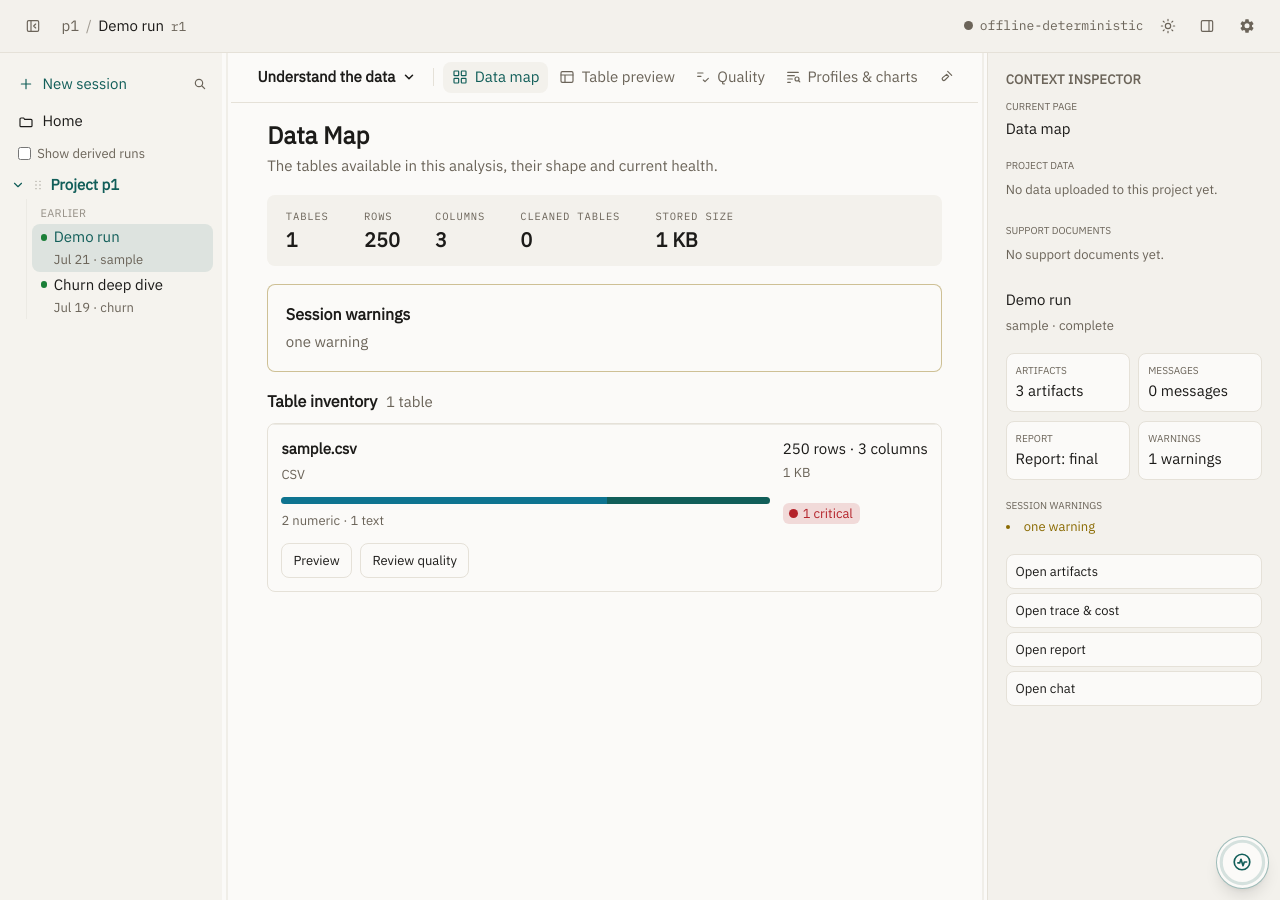
Test: App Shell › toggles the Activity panel and persists the choice
The width and height of the screenshot is (1280, 900).
expect the heading "Data Map" is shown: met, box [267,119,369,151]
Click the button named "Open activity" at (1242, 862), box [1216,836,1269,889]
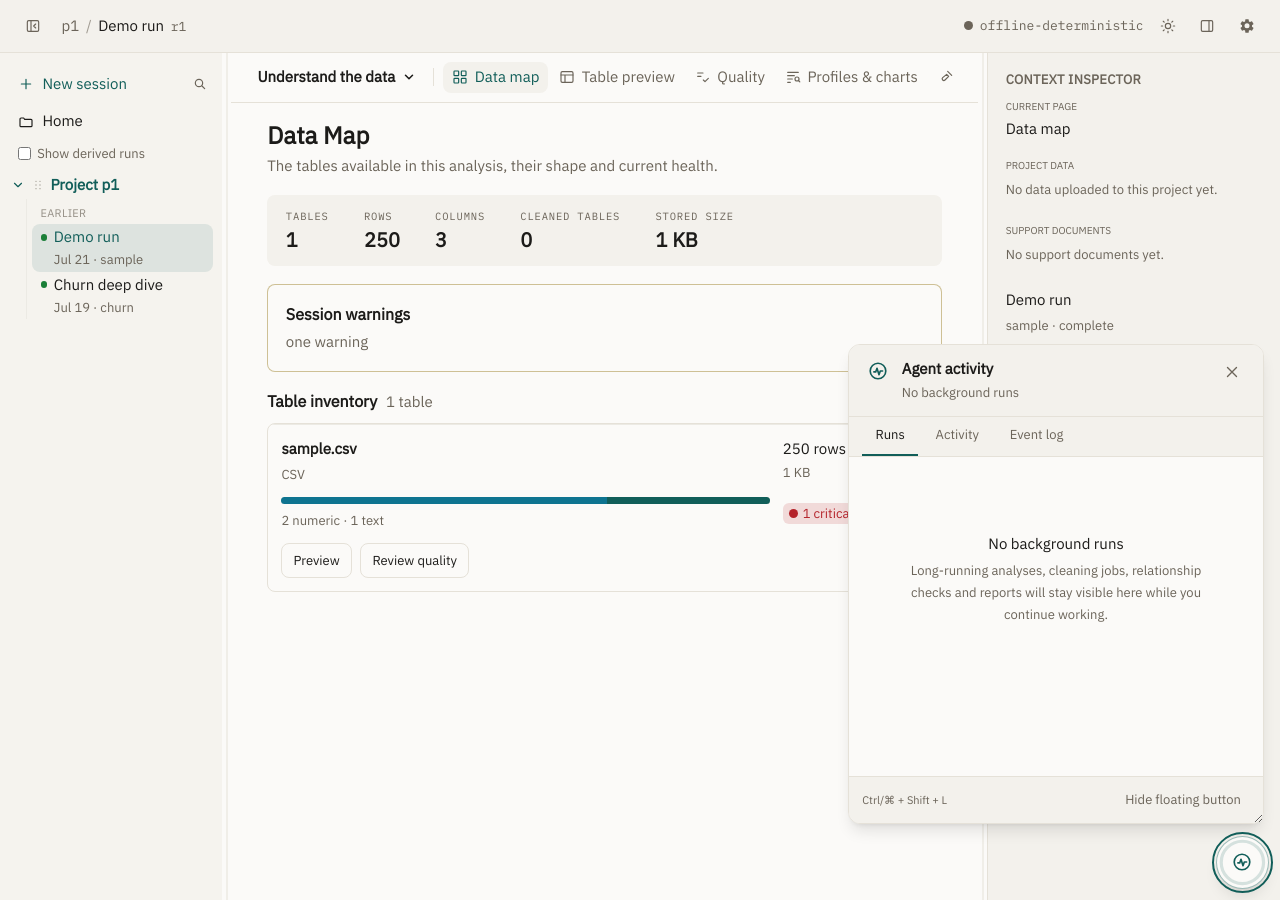
expect the dialog "activity" is shown: met, box [848,344,1264,824]
